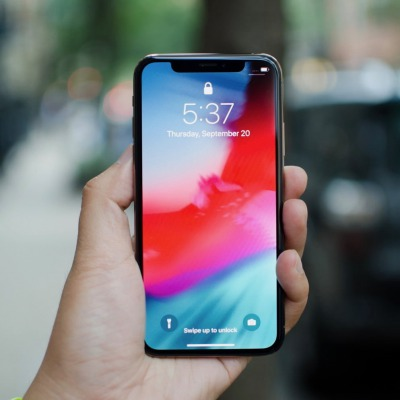iphone: (131, 51, 288, 358)
